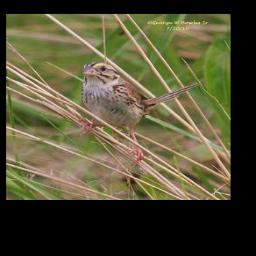Sparrow: (76, 62, 200, 169)
